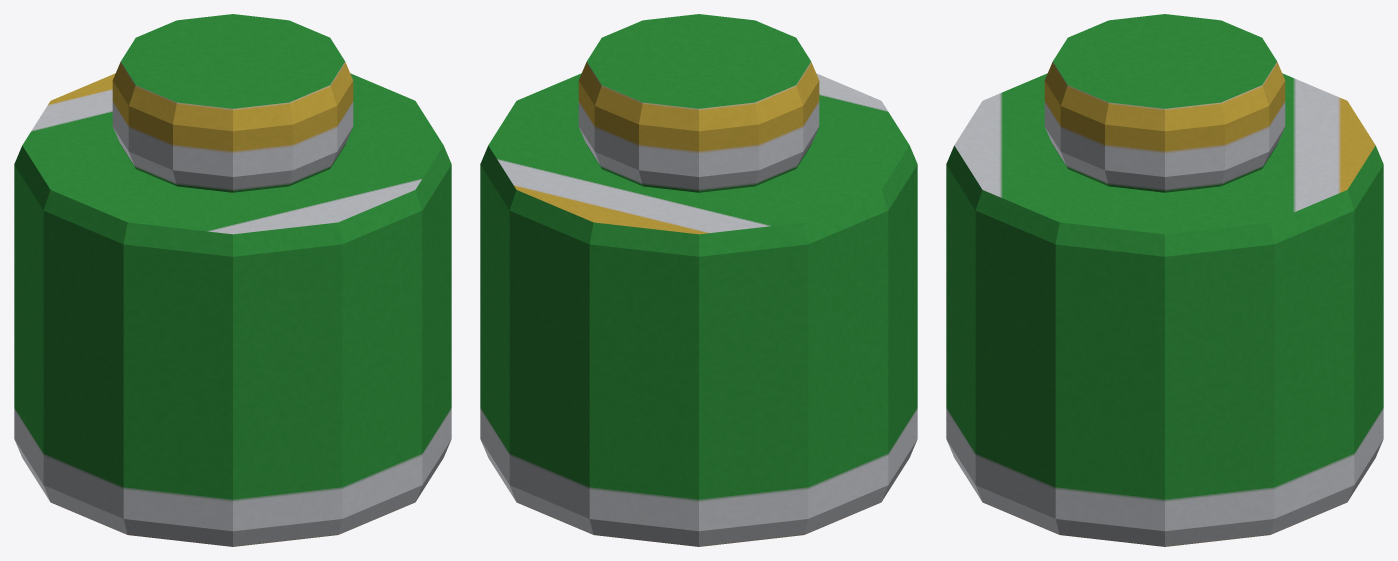
The model's file is Battery.glb.
3 renders of one model, left to right at view 1: azimuth 30°, elevation 25°; view 2: azimuth 150°, elevation 25°; view 3: azimuth 270°, elevation 25°, orthographic.
Visible parts, largest first — view 1: Battery; view 2: Battery; view 3: Battery.
Boxes of the visible parts, <box> form: Battery: <box>14,14,451,546</box>; Battery: <box>480,14,917,546</box>; Battery: <box>946,14,1383,546</box>.
Bounding box in the file's own units: 1 × 1 × 1.
1 material, 1 textured.
